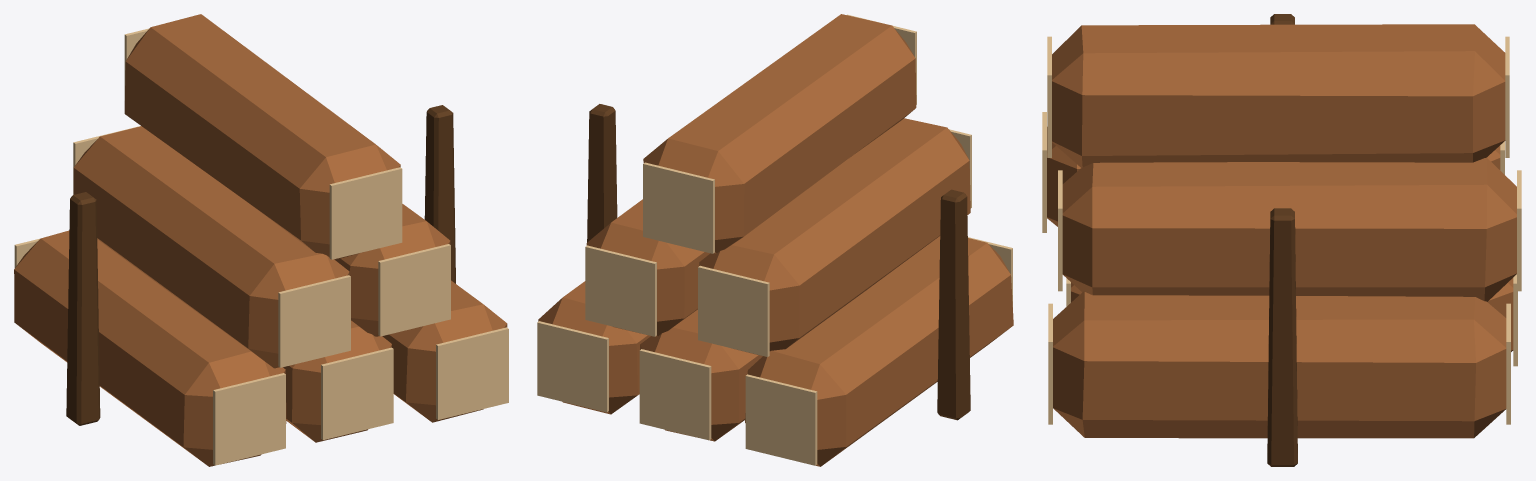
File: LogPile.fbx
The picture shows the model from 3 angles, left to right: view 1: azimuth 30°, elevation 25°; view 2: azimuth 150°, elevation 25°; view 3: azimuth 270°, elevation 25°; orthographic projection. The views are drawn at different scales.
Visible parts, largest first — view 1: Log, Rings, Wood; view 2: Log, Rings, Wood; view 3: Log, Wood, Rings.
Part boxes in pixels (x1,y1,x2,y2): Log: [14, 14, 507, 466]; Rings: [14, 28, 508, 465]; Wood: [66, 105, 455, 425]; Log: [538, 14, 1013, 466]; Rings: [537, 14, 1012, 465]; Wood: [587, 104, 970, 420]; Log: [1047, 24, 1516, 438]; Wood: [1267, 14, 1297, 466]; Rings: [1042, 36, 1521, 424].
Bounding box in the file's own units: 6.4 × 4.74 × 6.25.
